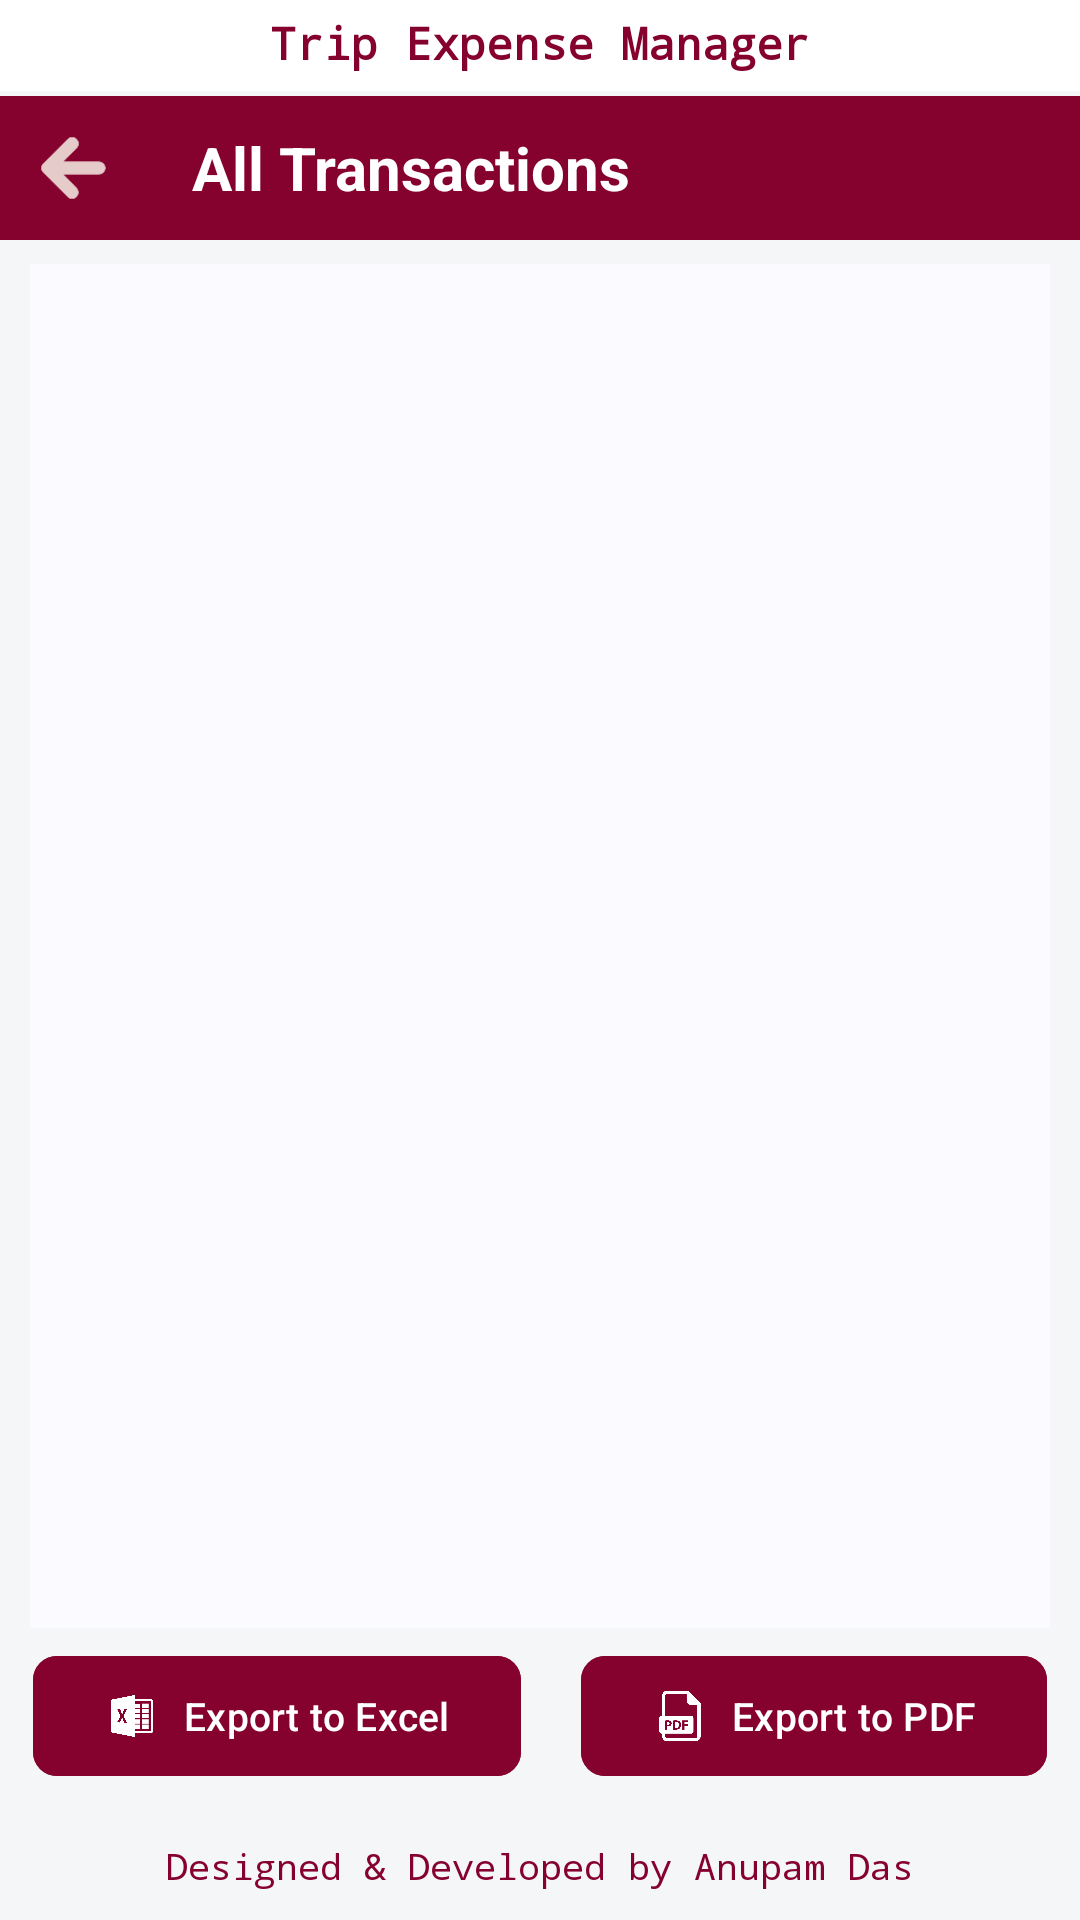

Point at icon controls on the screen. Image size 1080x1920, points as [x,y].
Go back: [73,168]
